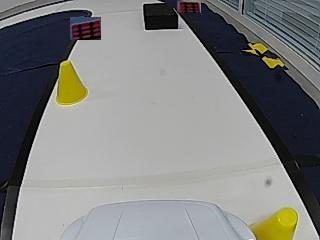block: (143, 2, 177, 29)
cone: (56, 62, 88, 105), (259, 208, 298, 239)
